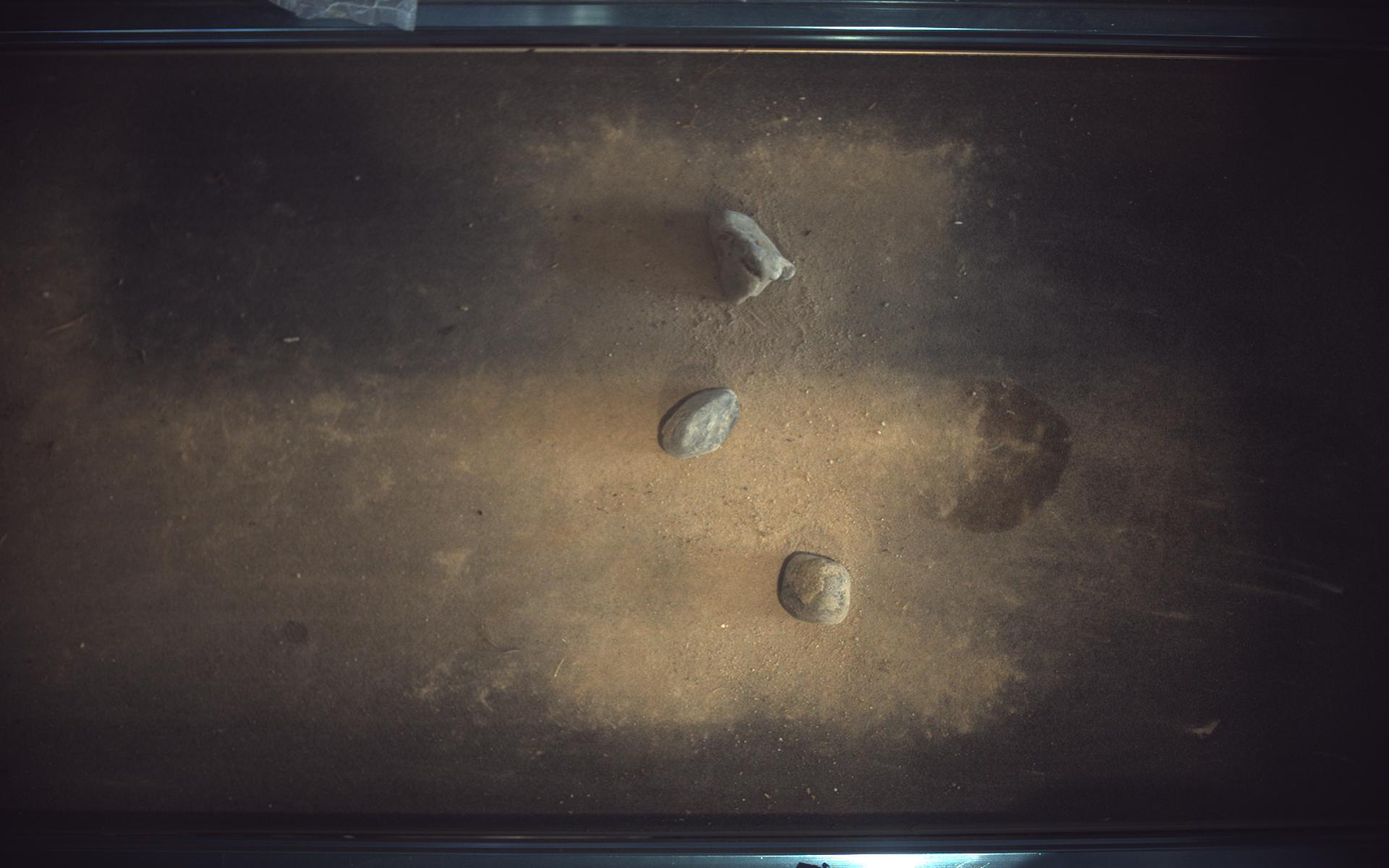stone: (710, 209, 797, 302), (660, 388, 740, 459), (779, 553, 853, 626)
